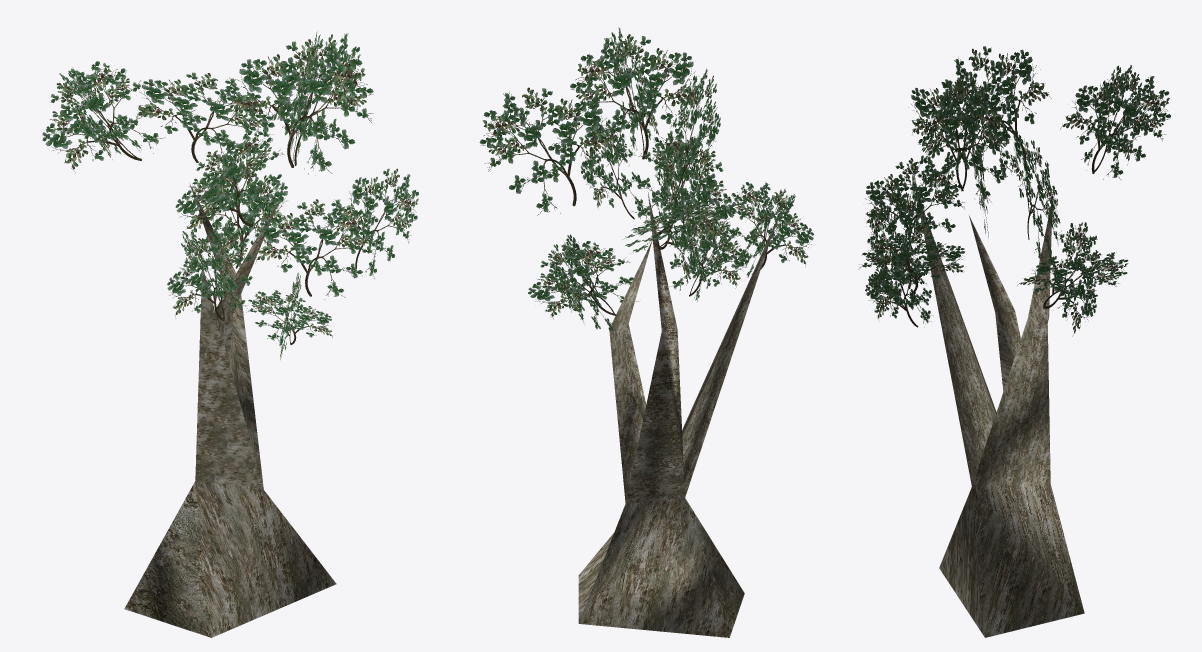
Rendered from decd_hollytreeleaves_a1_l3.fbx.
3 renders of one model, left to right at view 1: azimuth 30°, elevation 25°; view 2: azimuth 150°, elevation 25°; view 3: azimuth 270°, elevation 25°, orthographic. The views are drawn at different scales.
Parts seen in each view (by area): view 1: mesh_node; view 2: mesh_node; view 3: mesh_node.
Part boxes in pixels (box(x1,y1,x2,y2)): mesh_node: box(42, 31, 418, 637); mesh_node: box(479, 27, 813, 637); mesh_node: box(858, 46, 1170, 637).
Size of the model in its own units: 9.85 by 17.32 by 9.58.
